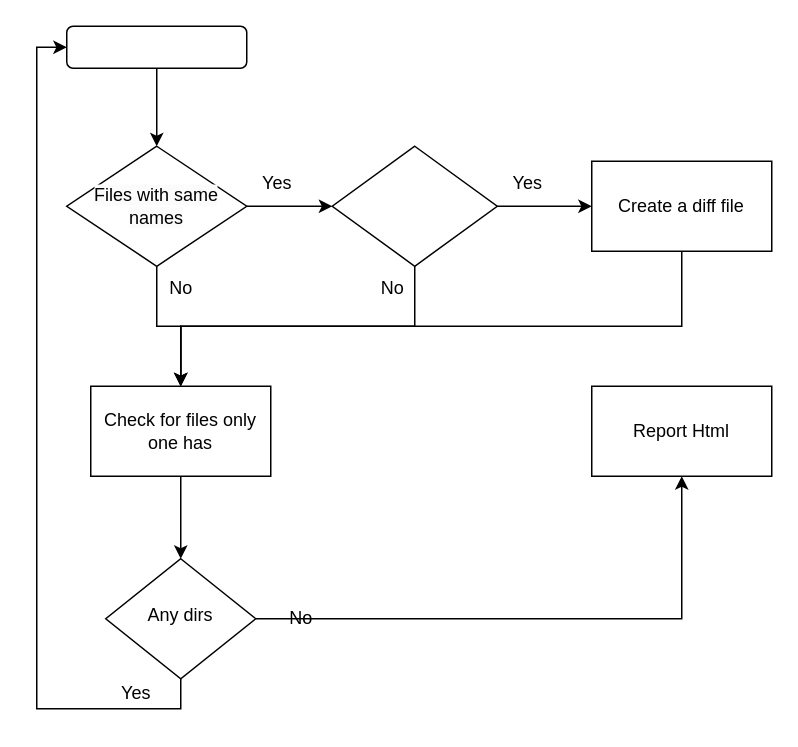
Some shapes in this 798 by 747 pixel diagram are drawn without their labels. Each missing label, with the centre of its shape:
Files are different: point (414, 205)
Input 2 dirs: point (156, 46)
